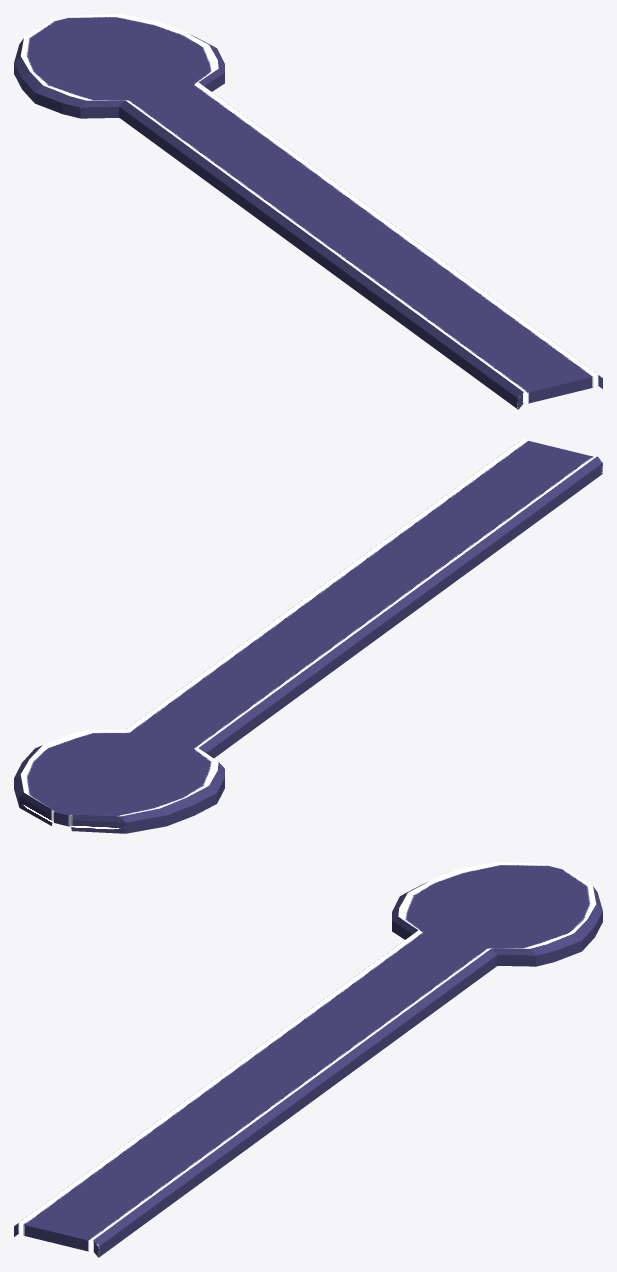
3 views of the same model, one above another, from view 1: azimuth 30°, elevation 25°; view 2: azimuth 150°, elevation 25°; view 3: azimuth 330°, elevation 25° (orthographic).
Visible parts, largest first — view 1: dancingCubeRe_Baked; view 2: dancingCubeRe_Baked; view 3: dancingCubeRe_Baked.
Part boxes in pixels (x1=…): dancingCubeRe_Baked: x1=14, y1=14, x2=602, y2=409; dancingCubeRe_Baked: x1=14, y1=438, x2=602, y2=833; dancingCubeRe_Baked: x1=14, y1=862, x2=602, y2=1257.
Bounding box in the file's own units: 2733 × 235 × 12965.
1 material, 1 textured.
